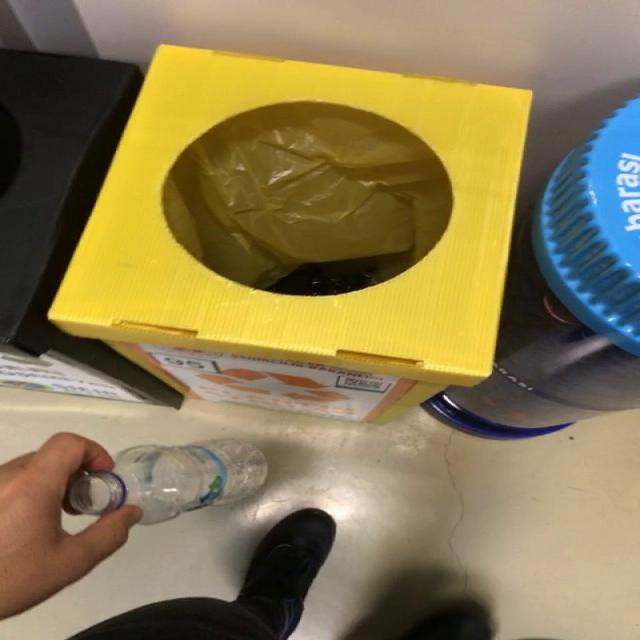plastic: (67, 439, 268, 524)
